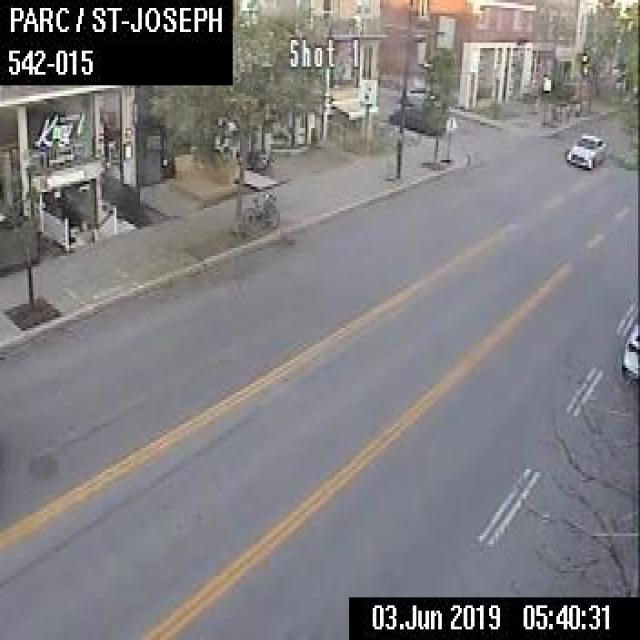vehicle: (387, 99, 455, 136), (564, 131, 604, 168), (620, 312, 638, 384)
